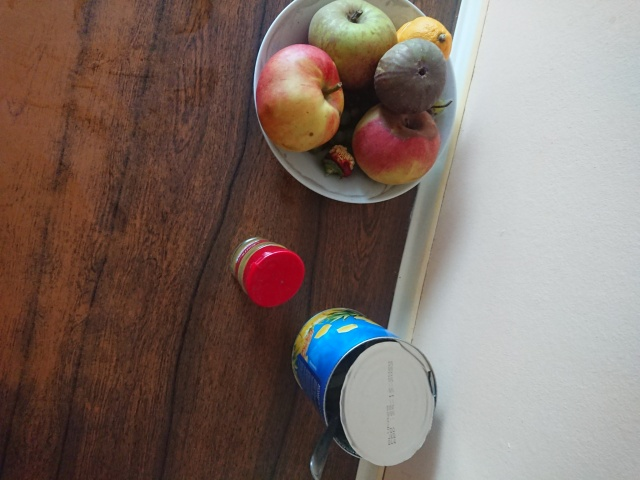Kotanyi Curry Spices Mix 70g: (225, 235, 306, 311)
